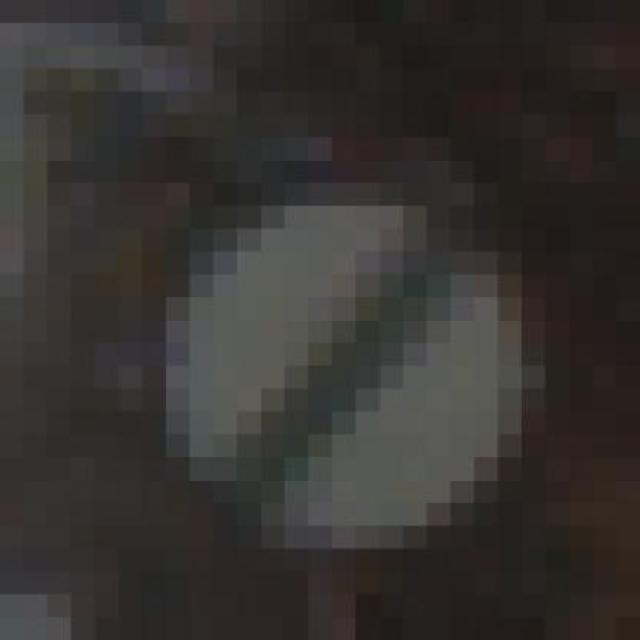End of all speed and passing limits: (114, 168, 566, 580)
